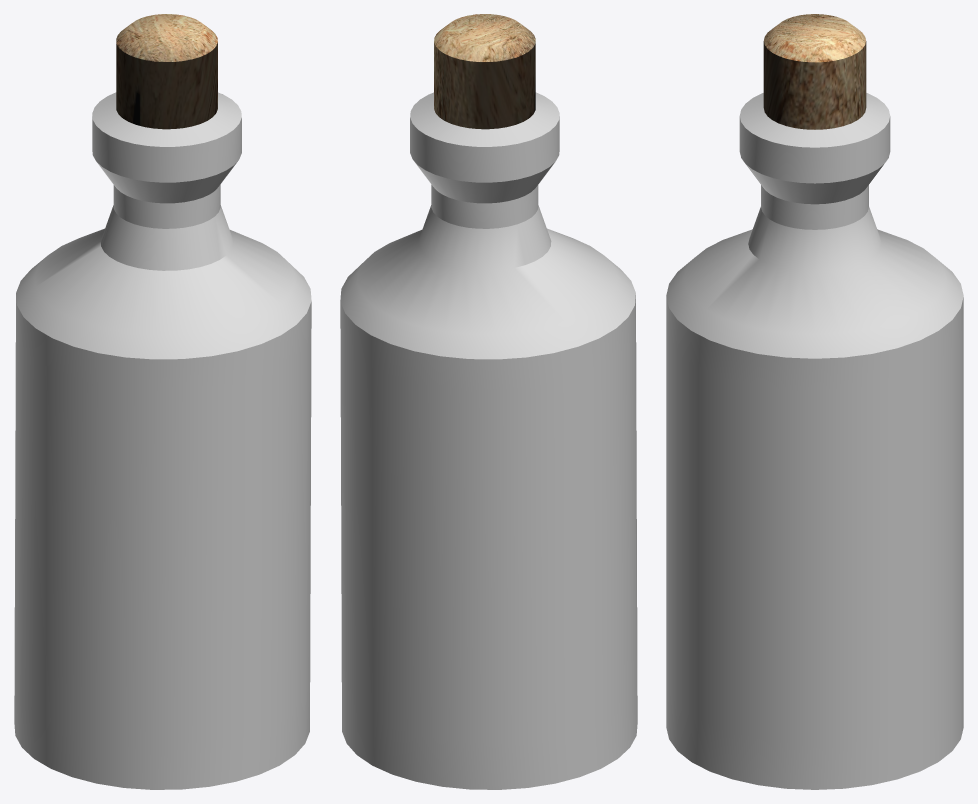
Rendered from glassbott2222lqqq111e.fbx.
3 renders of one model, left to right at view 1: azimuth 30°, elevation 25°; view 2: azimuth 150°, elevation 25°; view 3: azimuth 270°, elevation 25°, orthographic.
Visible parts, largest first — view 1: Cylinder.001; view 2: Cylinder.001; view 3: Cylinder.001.
Boxes of the visible parts, x1,y1,x2,y2 form: Cylinder.001: (14,14,311,789); Cylinder.001: (340,14,637,789); Cylinder.001: (666,14,963,789).
Bounding box in the file's own units: 174 × 468 × 173.
